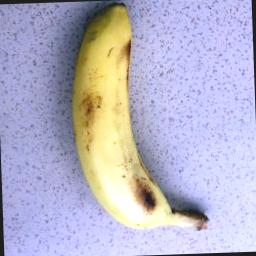Banana Ripe: (65, 0, 221, 245)
